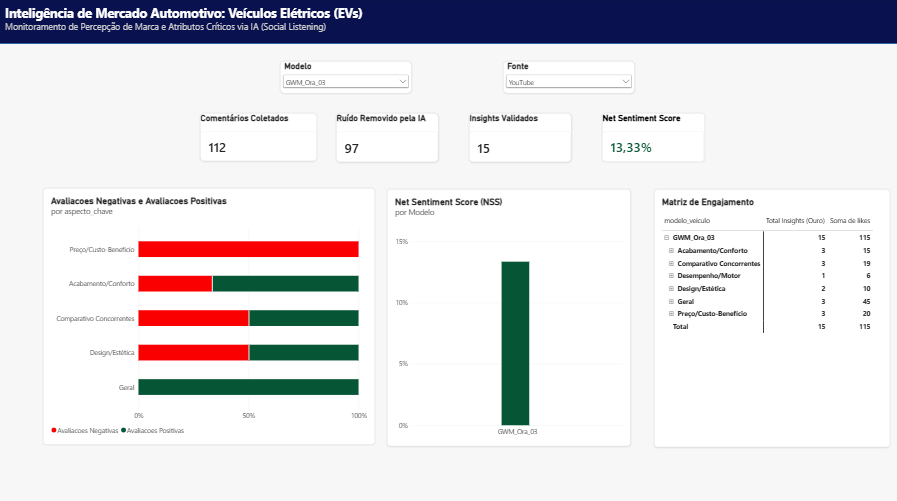

What the dashboard file says about the page in this screenshot:
{"tool":"powerbi","page":{"name":"Página 1","canvas":[1920,1080],"ordinal":0},"visuals":[{"type":"shape","box":[0,0,1920,95],"z":0},{"type":"slicer","fields":{"Values":["dModelo.Modelo"]},"box":[25,111,280,68.6],"z":1000},{"type":"slicer","fields":{"Values":["dFonte.Fonte"]},"box":[376,111,280,68.6],"z":2000},{"type":"cardVisual","title":"Comentários Coletados","fields":{"Data":["_Medidas.Total Volume Bruto"]},"box":[48.9,282.8,249.4,103.3],"z":2001},{"type":"cardVisual","title":"Ruído Removido pela IA","fields":{"Data":["_Medidas.Ruido Descartado"]},"box":[355,282.8,217.5,105],"z":2002},{"type":"cardVisual","title":"Insights Validados","fields":{"Data":["_Medidas.Total Insights (Ouro)"]},"box":[633.5,282.8,217.5,105],"z":2003},{"type":"cardVisual","title":"Net Sentiment Score","fields":{"Data":["_Medidas.Net Sentiment Score (NSS)"]},"box":[916.3,282.8,219,104.2],"z":2004},{"type":"donutChart","fields":{"Y":["_Medidas.Ruido Descartado","_Medidas.Total Insights (Ouro)"]},"box":[48.9,433.7,496.4,340.2],"z":2005},{"type":"hundredPercentStackedBarChart","fields":{"Category":["fAvaliacoes.aspecto_chave"],"Y":["_Medidas.Avaliacoes Negativas","_Medidas.Avaliacoes Positivas"]},"box":[608,433.7,705.5,370.4],"z":2006},{"type":"pivotTable","fields":{"Rows":["fAvaliacoes.modelo_veiculo","fAvaliacoes.aspecto_chave","fAvaliacoes.resumo_insight"],"Values":["Sum(fAvaliacoes.likes)"]},"box":[95.7,803.6,297.6,233.9],"z":2008},{"type":"clusteredColumnChart","fields":{"Category":["dModelo.Modelo"],"Y":["_Medidas.Net Sentiment Score (NSS)"]},"box":[1362.8,433.7,518.7,646.3],"z":2009}]}

Visuals, with their boxes in screenshot pixels (x1, y1, x2, y2), scaled from the page's 1920x1080 canvas onto the 897x501 screenshot:
shape: pyautogui.locateOnScreen(0, 0, 896, 44)
slicer - dModelo.Modelo: pyautogui.locateOnScreen(12, 51, 142, 83)
slicer - dFonte.Fonte: pyautogui.locateOnScreen(176, 51, 306, 83)
"Comentários Coletados" cardVisual: pyautogui.locateOnScreen(23, 131, 139, 179)
"Ruído Removido pela IA" cardVisual: pyautogui.locateOnScreen(166, 131, 267, 180)
"Insights Validados" cardVisual: pyautogui.locateOnScreen(296, 131, 398, 180)
"Net Sentiment Score" cardVisual: pyautogui.locateOnScreen(428, 131, 530, 180)
donutChart - _Medidas.Ruido Descartado x _Medidas.Total Insights (Ouro): pyautogui.locateOnScreen(23, 201, 255, 359)
hundredPercentStackedBarChart - fAvaliacoes.aspecto_chave x _Medidas.Avaliacoes Negativas: pyautogui.locateOnScreen(284, 201, 614, 373)
pivotTable - fAvaliacoes.modelo_veiculo x fAvaliacoes.aspecto_chave: pyautogui.locateOnScreen(45, 373, 184, 481)
clusteredColumnChart - dModelo.Modelo x _Medidas.Net Sentiment Score (NSS): pyautogui.locateOnScreen(637, 201, 879, 500)
